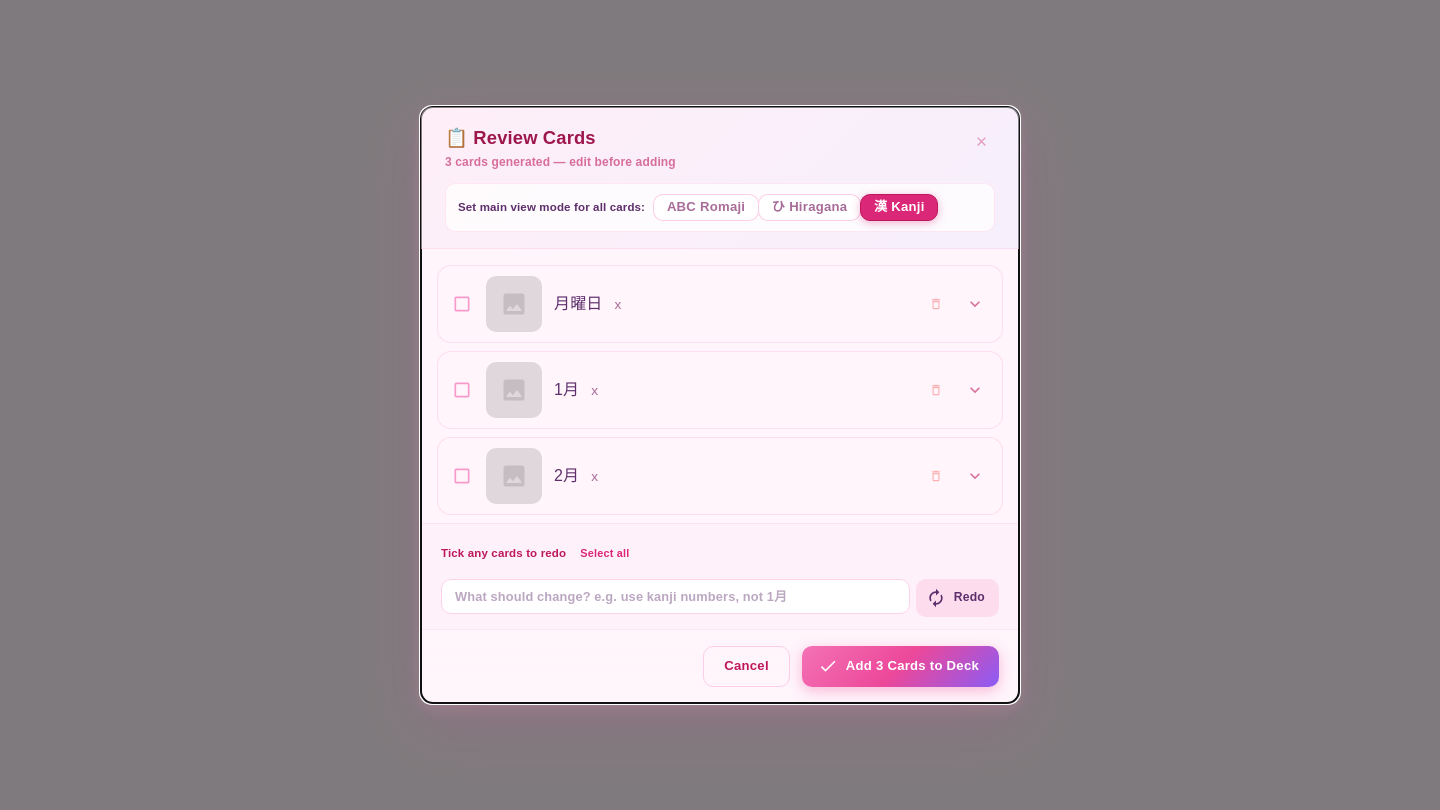
it: ReviewCardsDialog regeneration › should keep the redo button disabled until cards and an instruction are given
This screenshot has width=1440, height=810.
Expected: the button "Redo" is disabled, [916, 579, 999, 617]
Click the checkbox named "Select 1月 to redo".
click(462, 390)  # box [452, 380, 472, 400]
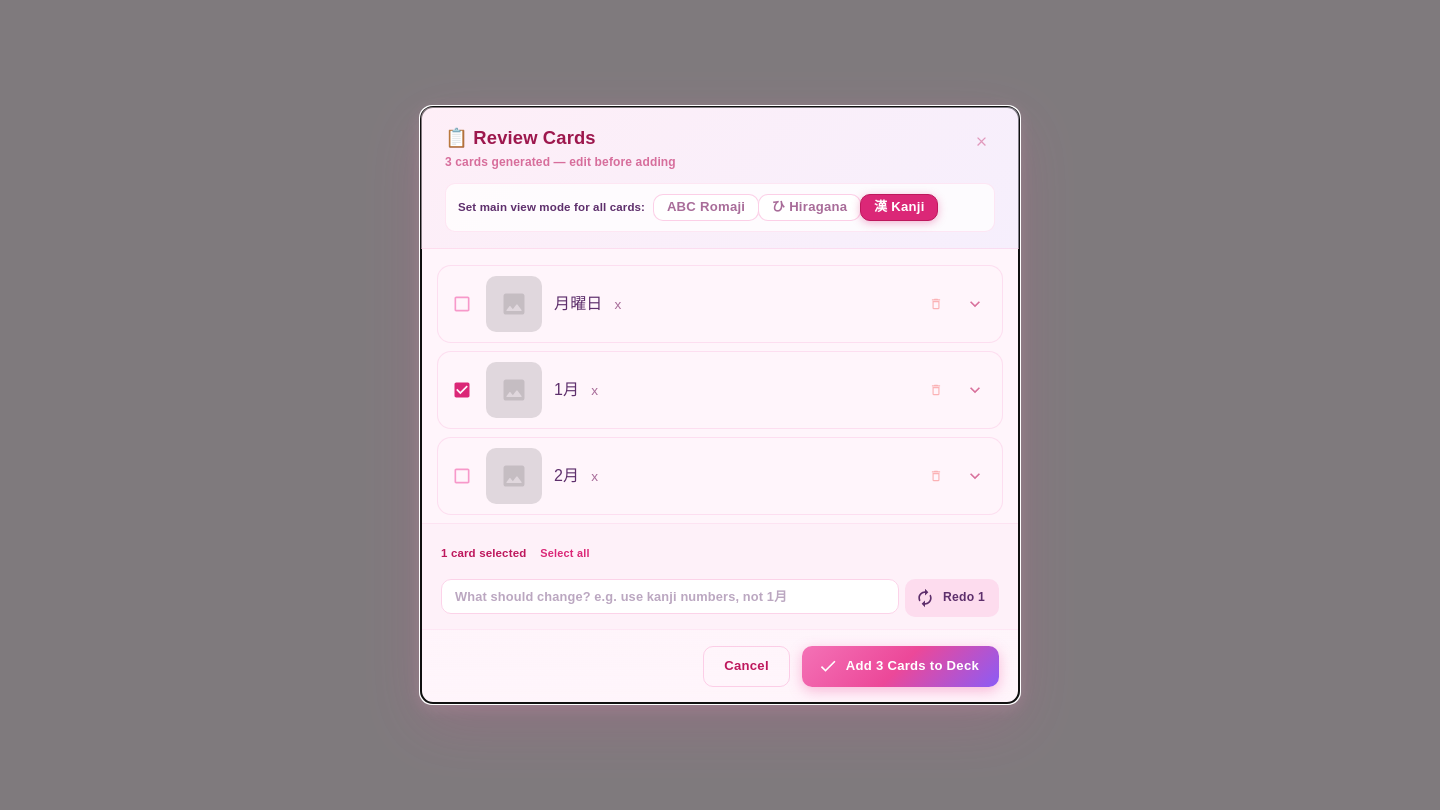
Expected: the button "Redo 1" is disabled, [905, 579, 999, 617]
Type "use kanji numbers" into the field with placeholder "What should change? e.g. use kanji numbers, not 1月".
click(670, 596); type("use kanji numbers")  # box [441, 579, 899, 614]
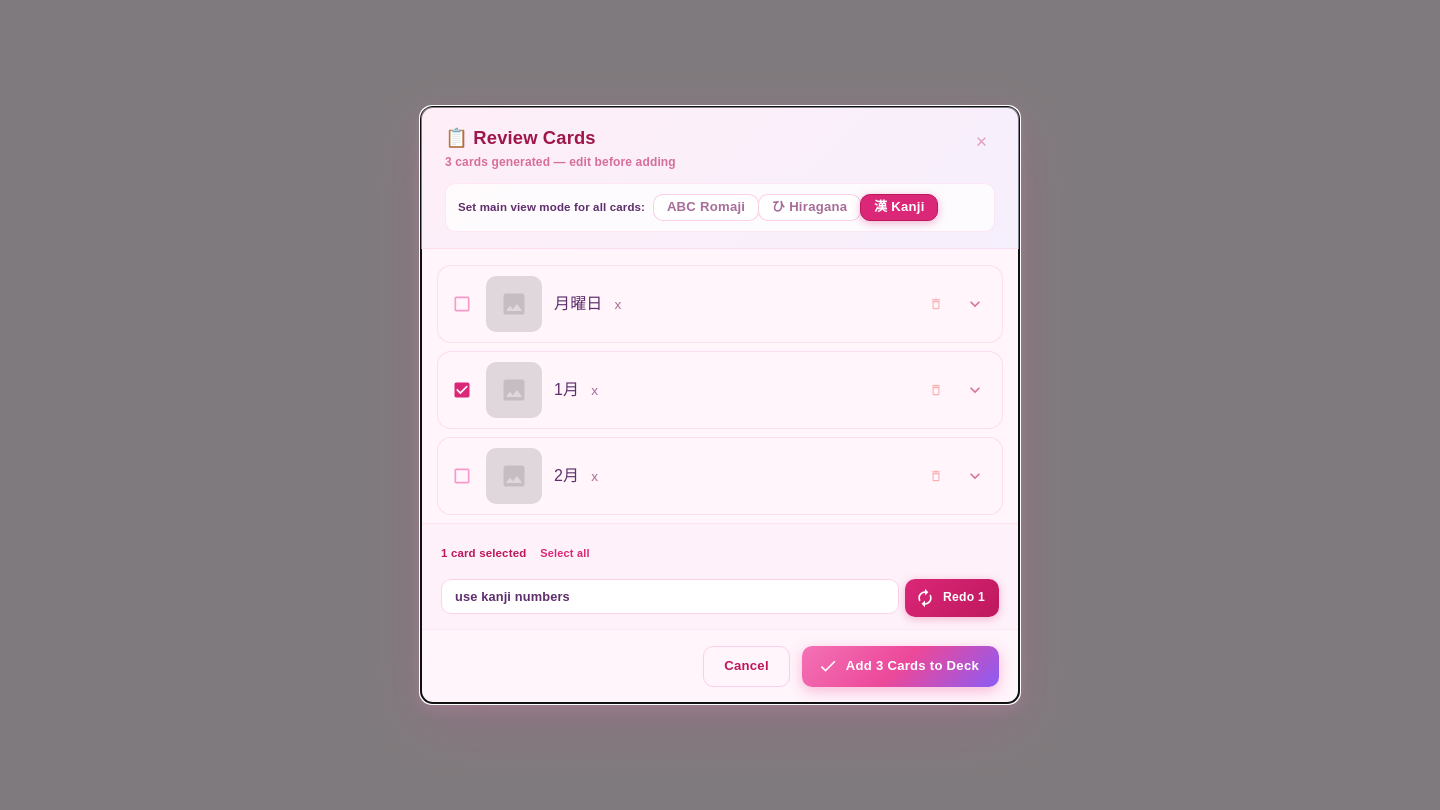
Result: the button "Redo 1" is enabled at [905, 579, 999, 617]
